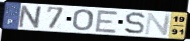7: (46, 6, 65, 31)
E: (94, 9, 121, 34)
N: (16, 4, 45, 30), (144, 12, 173, 36)
O: (71, 9, 95, 32)
S: (123, 11, 146, 35)
